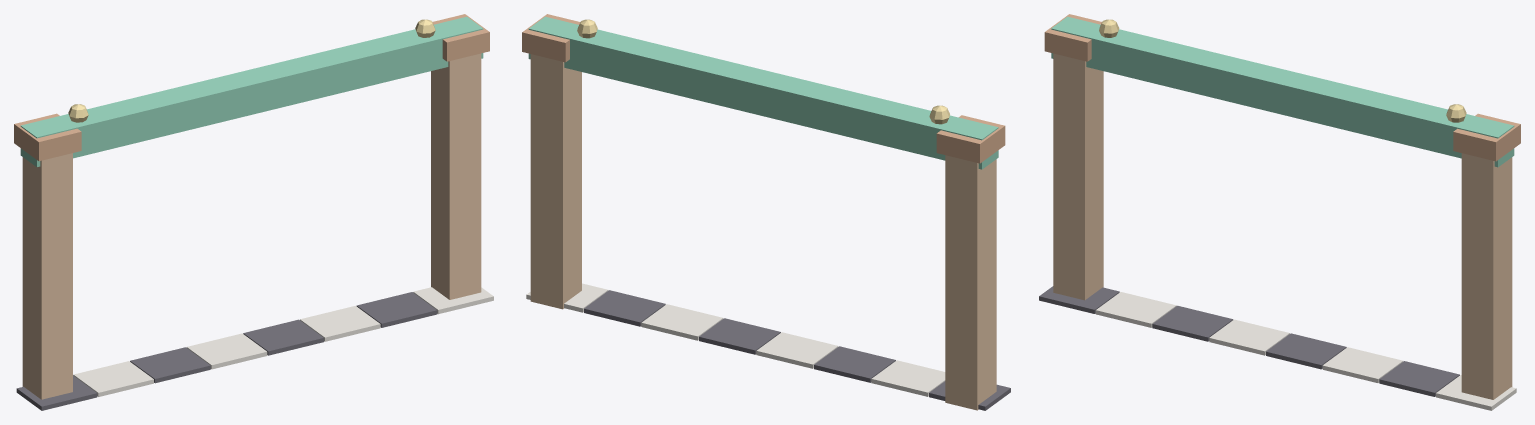
Rendered from arco_salida.glb.
The picture shows the model from 3 angles, left to right: view 1: azimuth 30°, elevation 25°; view 2: azimuth 150°, elevation 25°; view 3: azimuth 330°, elevation 25°; orthographic projection.
Visible parts, largest first — view 1: arco_salida; view 2: arco_salida; view 3: arco_salida.
Part boxes in pixels (x1=…): arco_salida: x1=14, y1=14, x2=493, y2=410; arco_salida: x1=522, y1=14, x2=1010, y2=410; arco_salida: x1=1039, y1=14, x2=1520, y2=410.
Size of the model in its own units: 8.87 by 5.28 by 0.985.
